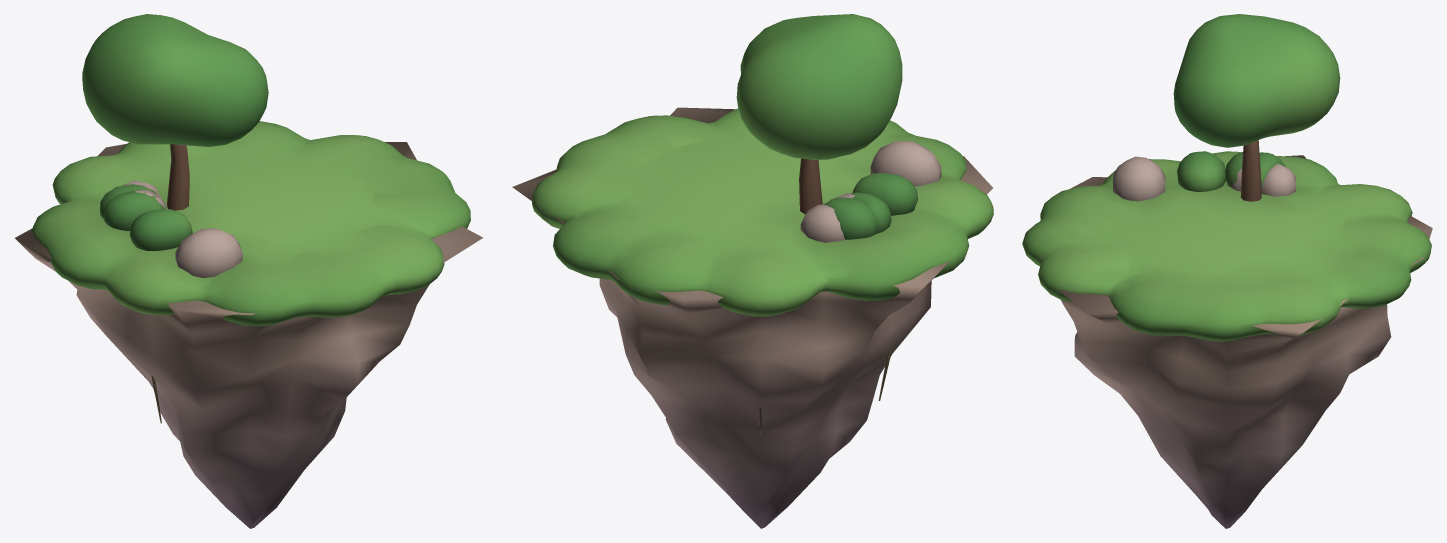
File: env_sky_islet_2.glb
The picture shows the model from 3 angles, left to right: view 1: azimuth 30°, elevation 25°; view 2: azimuth 150°, elevation 25°; view 3: azimuth 270°, elevation 25°; orthographic projection. The views are drawn at different scales.
Visible parts, largest first — view 1: SM_sky_sky_vc_x0_z0.028; view 2: SM_sky_sky_vc_x0_z0.028; view 3: SM_sky_sky_vc_x0_z0.028.
Part boxes in pixels (<box>): SM_sky_sky_vc_x0_z0.028: <box>15,14,482,528</box>; SM_sky_sky_vc_x0_z0.028: <box>512,14,993,528</box>; SM_sky_sky_vc_x0_z0.028: <box>1022,14,1432,528</box>.
Bounding box in the file's own units: 7.77 × 9.61 × 7.6.
